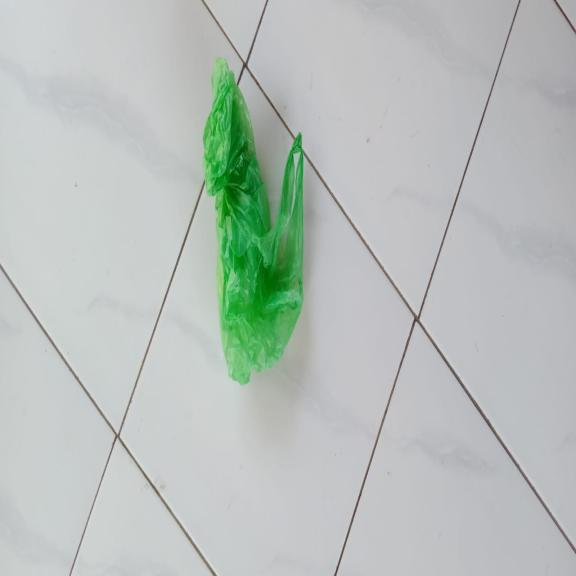Plastik: (203, 56, 304, 386)
